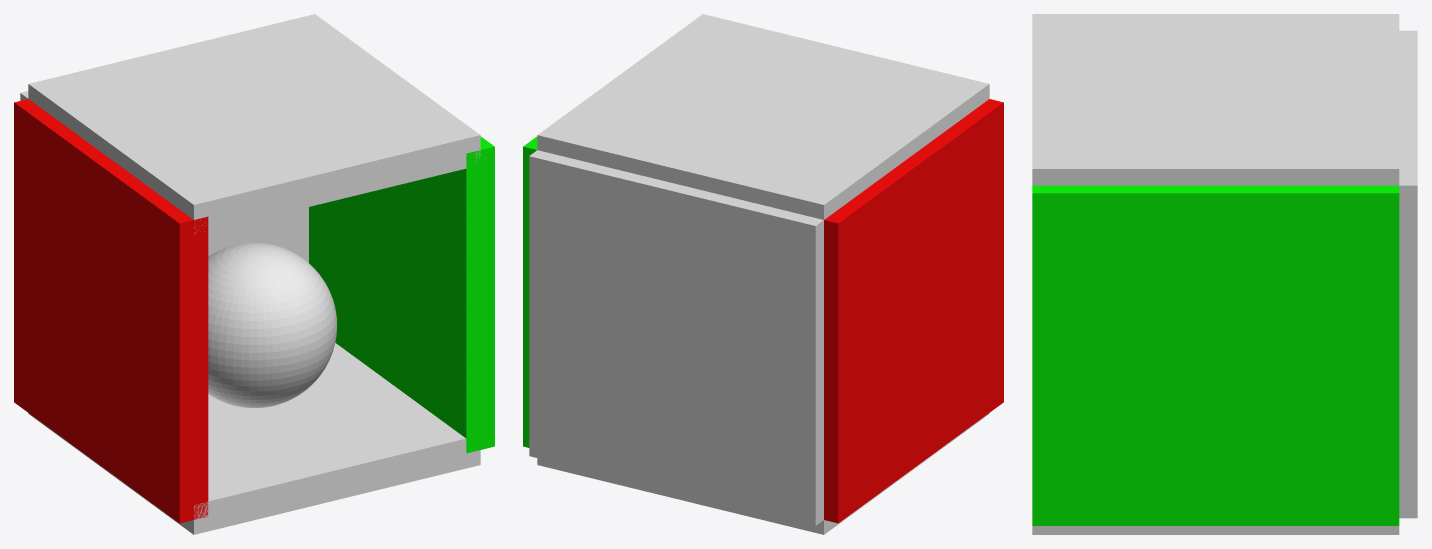
Rendered from cornell_boxes_ball.glb.
The picture shows the model from 3 angles, left to right: view 1: azimuth 30°, elevation 25°; view 2: azimuth 150°, elevation 25°; view 3: azimuth 270°, elevation 25°; orthographic projection. The views are drawn at different scales.
Parts seen in each view (by area): view 1: Cube.001, Cube.002, Cube.003, Cube.004, Sphere, Cube; view 2: Cube, Cube.001, Cube.002, Cube.004, Cube.003; view 3: Cube.003, Cube.002, Cube, Cube.004.
Boxes of the visible parts, x1=… form: Cube.001: x1=14, y1=99, x2=208, y2=523; Cube.002: x1=28, y1=14, x2=480, y2=234; Cube.003: x1=309, y1=136, x2=494, y2=453; Cube.004: x1=28, y1=343, x2=480, y2=534; Sphere: x1=208, y1=243, x2=337, y2=407; Cube: x1=20, y1=91, x2=308, y2=262; Cube: x1=529, y1=150, x2=823, y2=525; Cube.001: x1=824, y1=99, x2=1003, y2=523; Cube.002: x1=537, y1=14, x2=989, y2=219; Cube.004: x1=537, y1=413, x2=989, y2=534; Cube.003: x1=523, y1=136, x2=537, y2=447; Cube.003: x1=1032, y1=185, x2=1399, y2=525; Cube.002: x1=1032, y1=14, x2=1399, y2=185; Cube: x1=1399, y1=30, x2=1417, y2=518; Cube.004: x1=1032, y1=526, x2=1399, y2=534.
Size of the model in its own units: 2.2 by 2.2 by 2.1.
